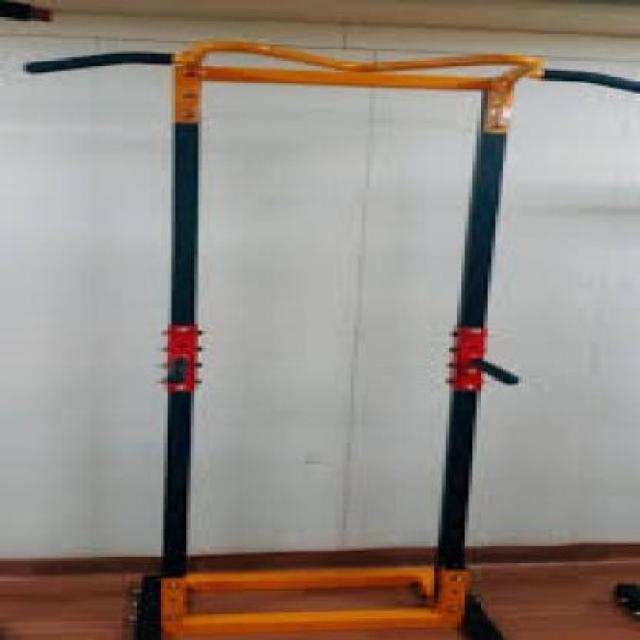chinning dipping: (24, 40, 640, 640)
